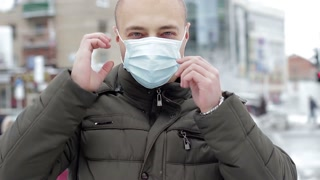mask: (123, 38, 181, 88)
